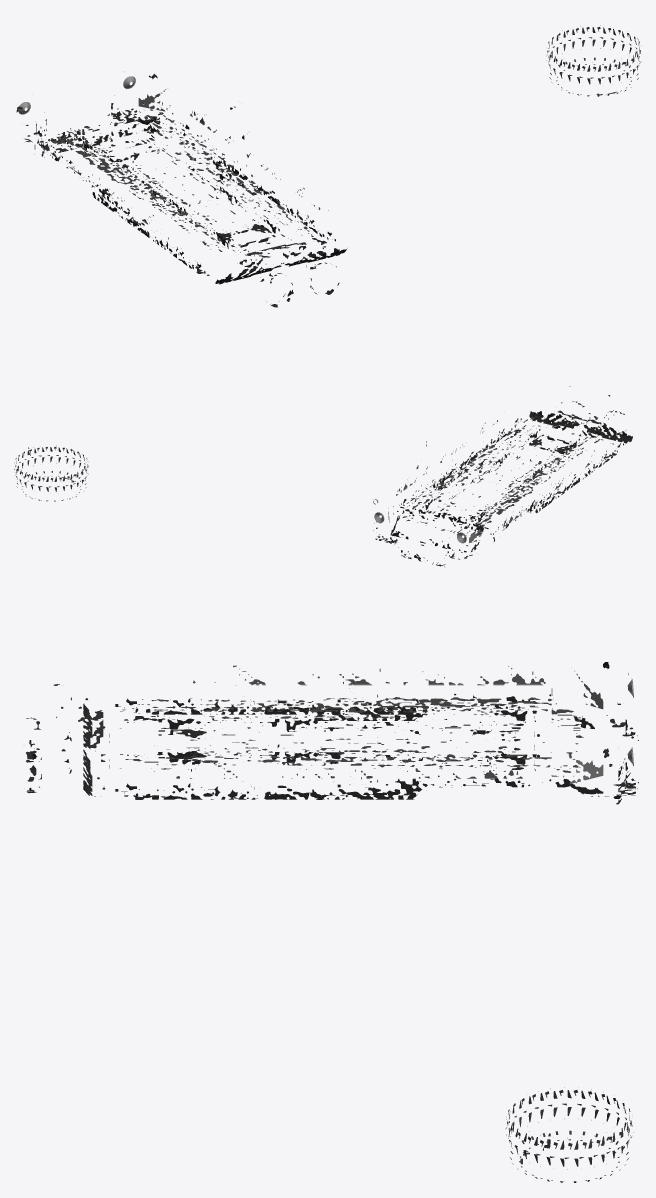
Rendered from mule_car.fbx.
The picture shows the model from 3 angles, top to bottom: view 1: azimuth 30°, elevation 25°; view 2: azimuth 150°, elevation 25°; view 3: azimuth 270°, elevation 25°; orthographic projection. The views are drawn at different scales.
Visible parts, largest first — view 1: mule, mule_tyre; view 2: mule, mule_tyre; view 3: mule, mule_tyre.
Boxes of the visible parts, <box> form: mule: <box>16,73,347,307</box>; mule_tyre: <box>546,25,641,96</box>; mule: <box>373,386,632,566</box>; mule_tyre: <box>14,445,88,501</box>; mule: <box>26,662,638,804</box>; mule_tyre: <box>505,1087,633,1182</box>.
Size of the model in its own units: 993 by 257 by 646.
Materials: 3 (2 with a texture image).
